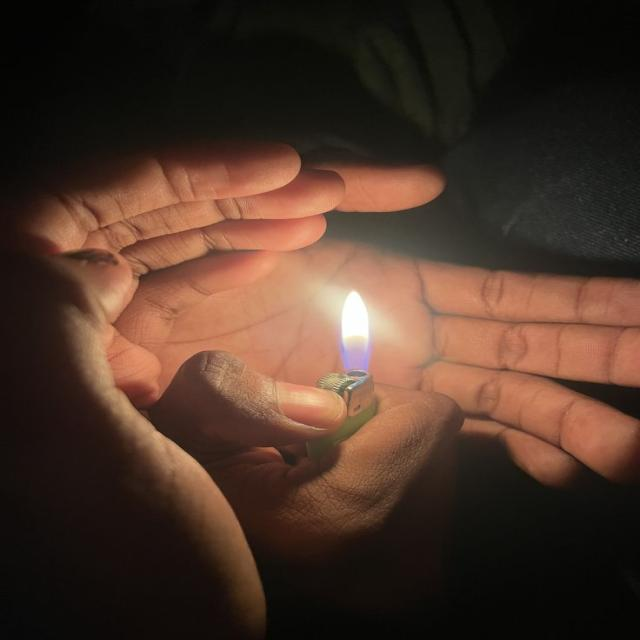fire: (338, 291, 372, 371)
